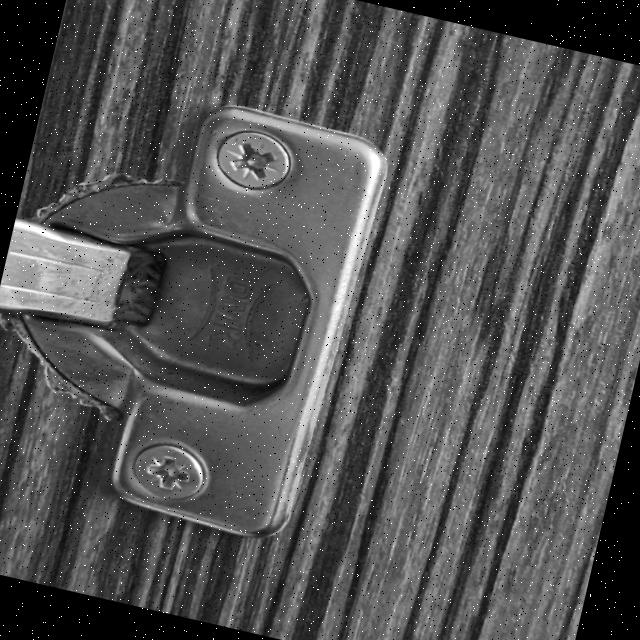Phillips: (128, 436, 208, 504)
Pozidriv: (208, 128, 296, 198), (126, 436, 210, 506)
